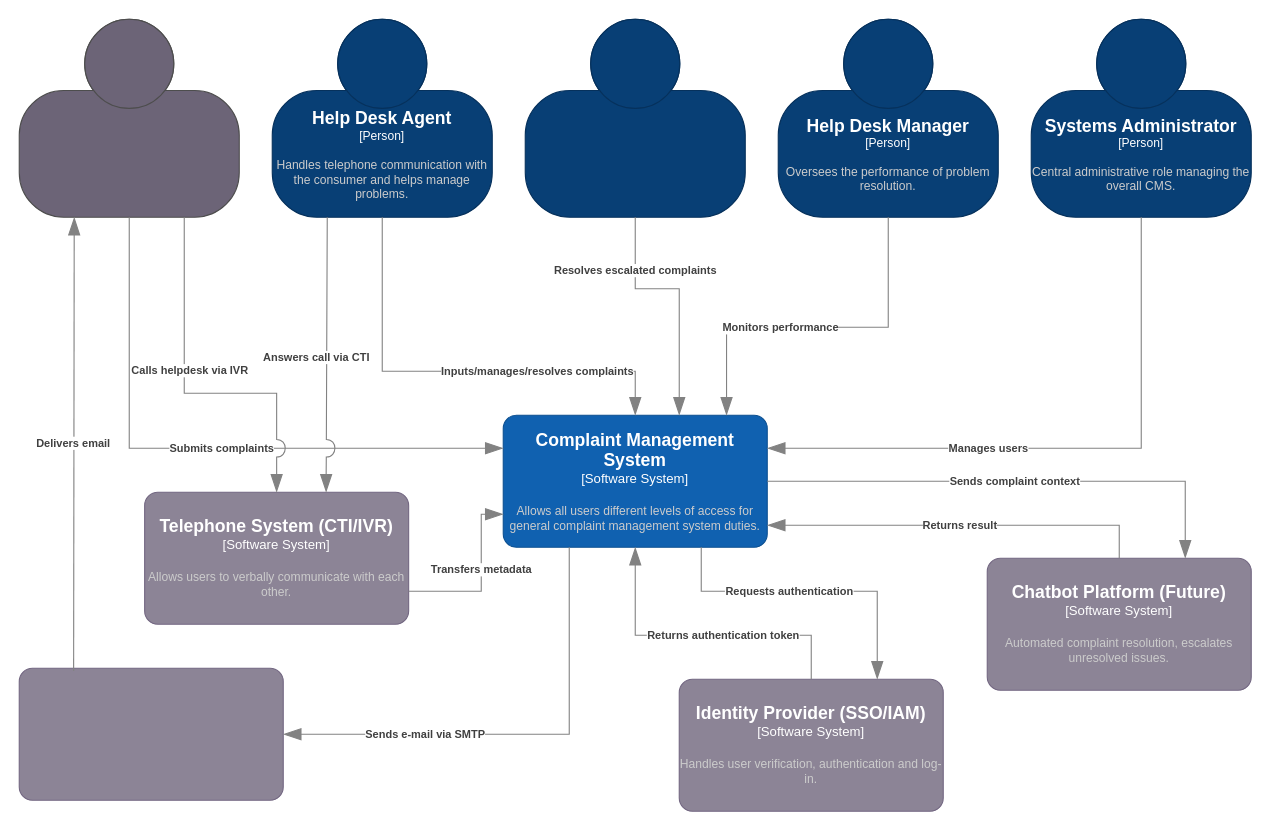
Some shapes in this 1271 by 831 pixel diagram are drawn without their labels. The shapes that lost their labels are listed below. From the top down, each one's centre as x and y in pixels, then its label:
(128,117): Consumer [Person] (End-user) A customer of the company which uses the CMS.
(634,117): Support Person [Person] Resolves a problem and updates the status of a problem.
(150,733): Email System [Software System] Sends emails when prompted.
